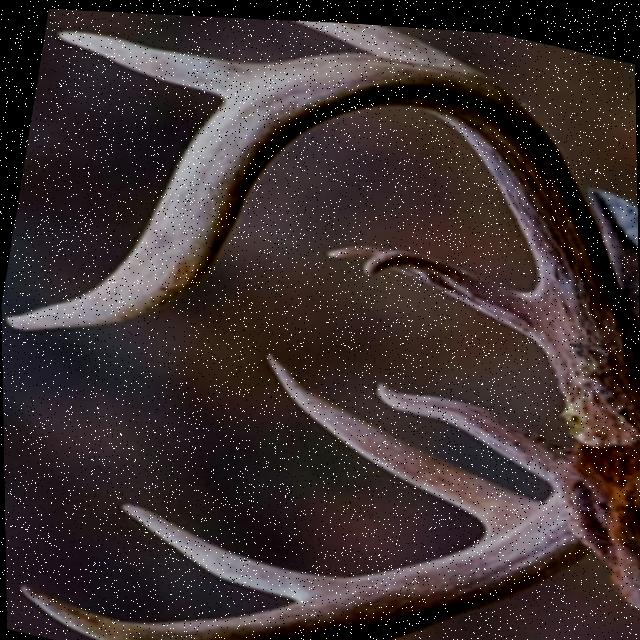L-G1: (372, 375, 573, 482)
L-G2: (264, 348, 541, 525)
L-G3: (118, 500, 334, 596)
R-F: (2, 46, 640, 437)
R-G1: (322, 239, 540, 337)
R-G3: (53, 28, 256, 96)
